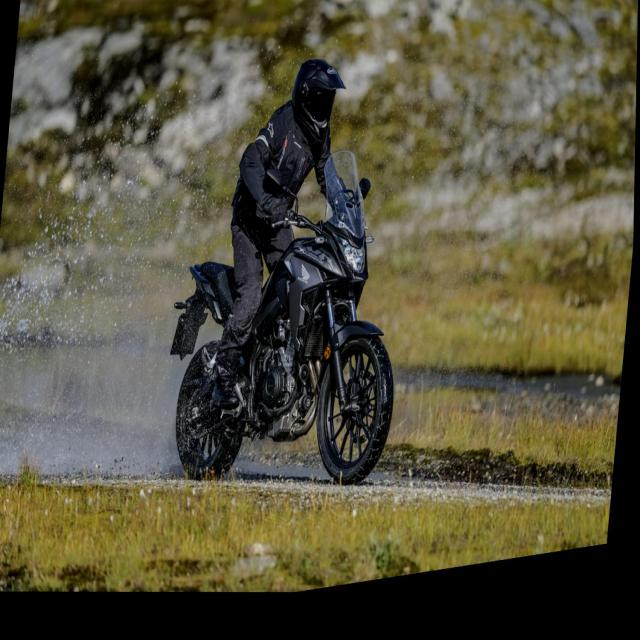CB500X: (158, 127, 416, 523)
